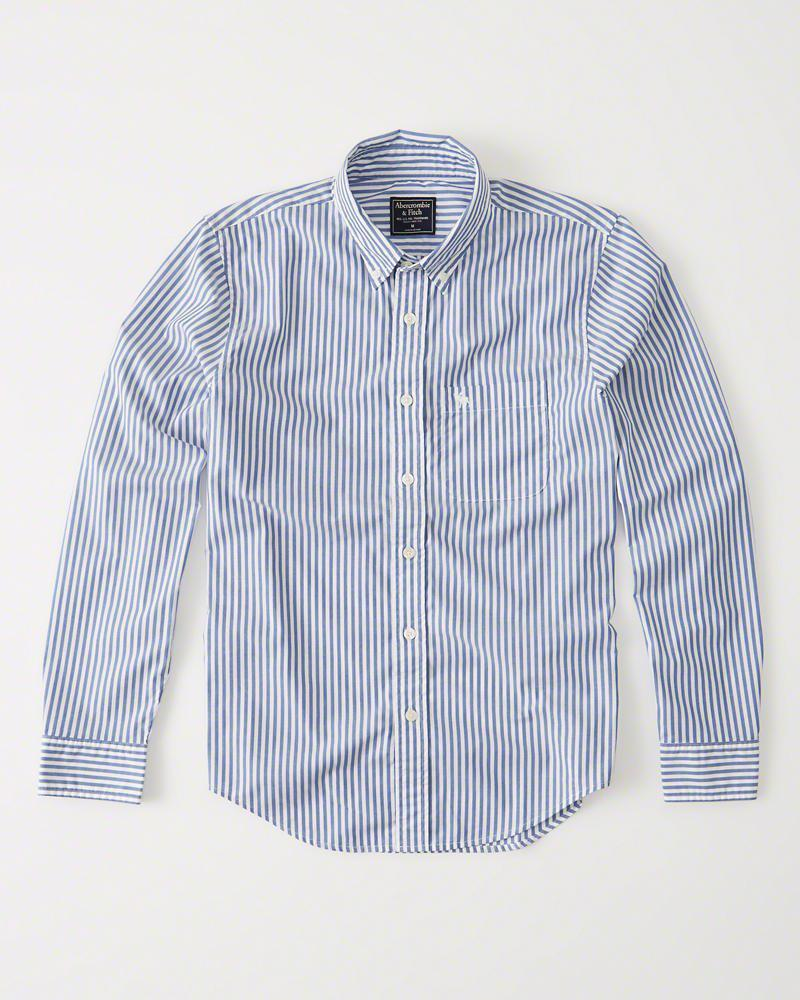teeshirt: (30, 124, 773, 881)
